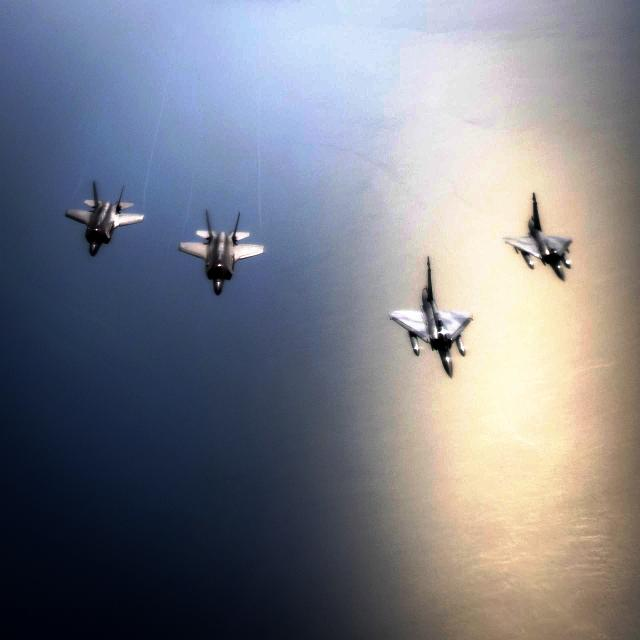Aircraft: (388, 256, 477, 380), (177, 202, 267, 296), (499, 188, 575, 284), (63, 176, 146, 256)
